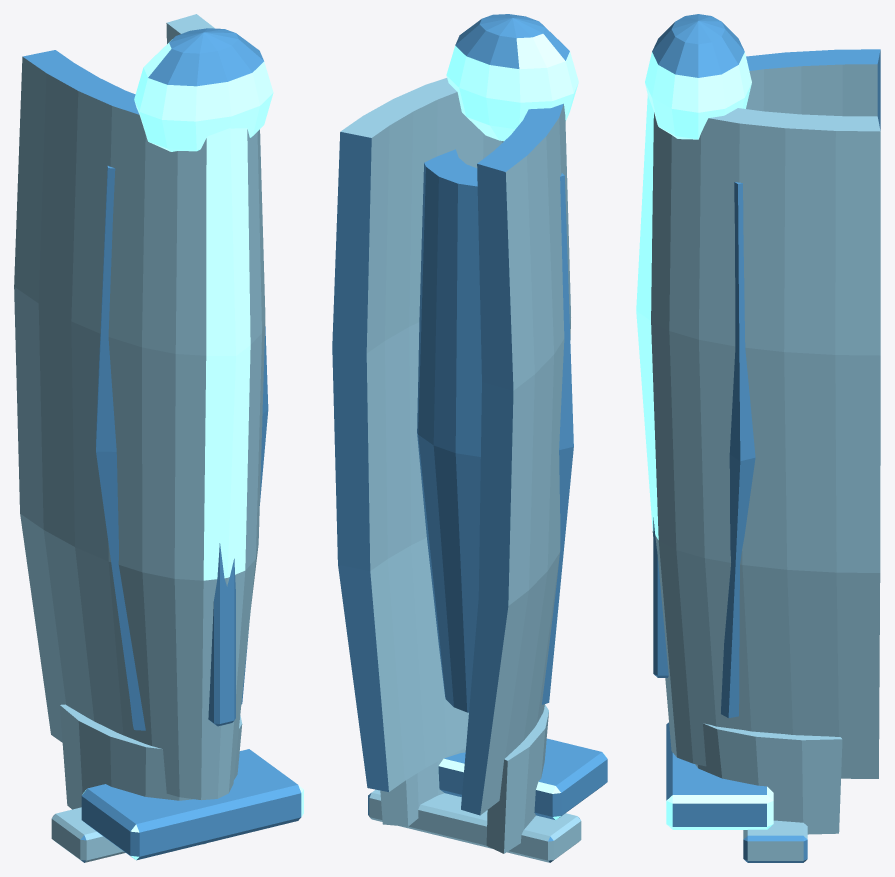
The model's file is right_shin.glb.
The picture shows the model from 3 angles, left to right: view 1: azimuth 30°, elevation 25°; view 2: azimuth 150°, elevation 25°; view 3: azimuth 270°, elevation 25°; orthographic projection. The views are drawn at different scales.
Visible parts, largest first — view 1: armor_right_shin_v001; view 2: armor_right_shin_v001; view 3: armor_right_shin_v001.
Boxes of the visible parts, <box> form: armor_right_shin_v001: <box>14,14,303,862</box>; armor_right_shin_v001: <box>332,14,607,862</box>; armor_right_shin_v001: <box>636,14,880,862</box>.
Size of the model in its own units: 0.1017 by 0.4105 by 0.1141.
